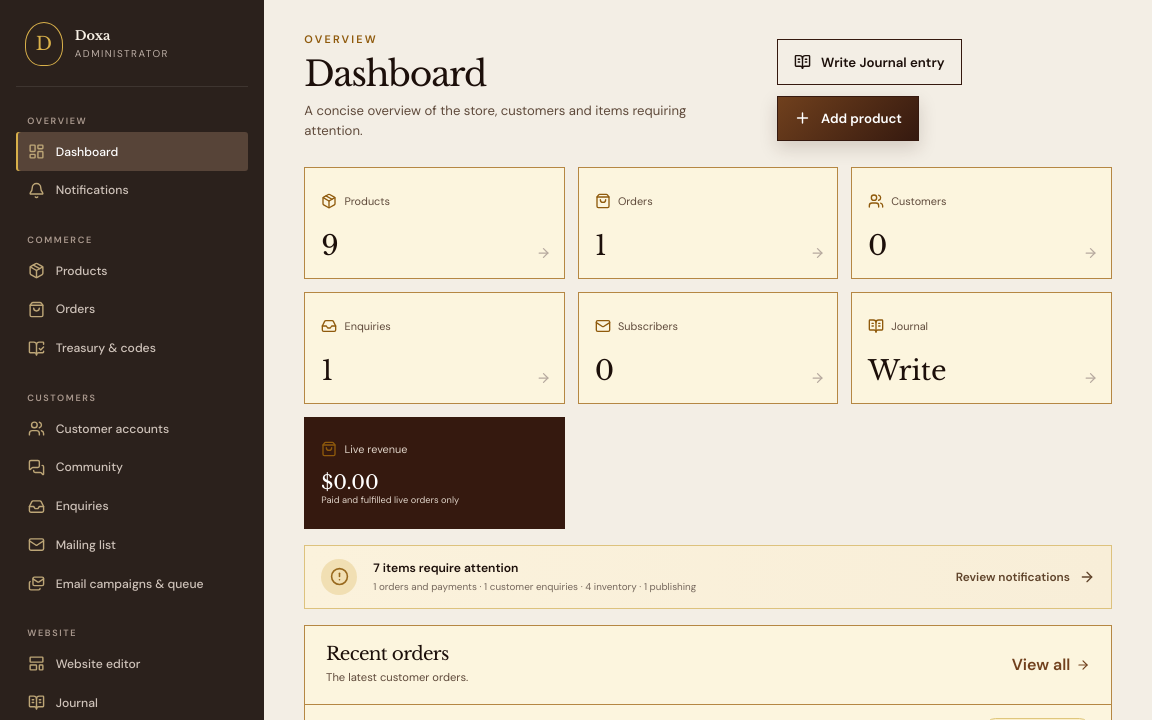
Test: routed administrator workspace › opens the structured notifications view from the dashboard attention banner
Click the link that starts with "item": (339, 577) [304,545,1112,609]
(page scrolled)
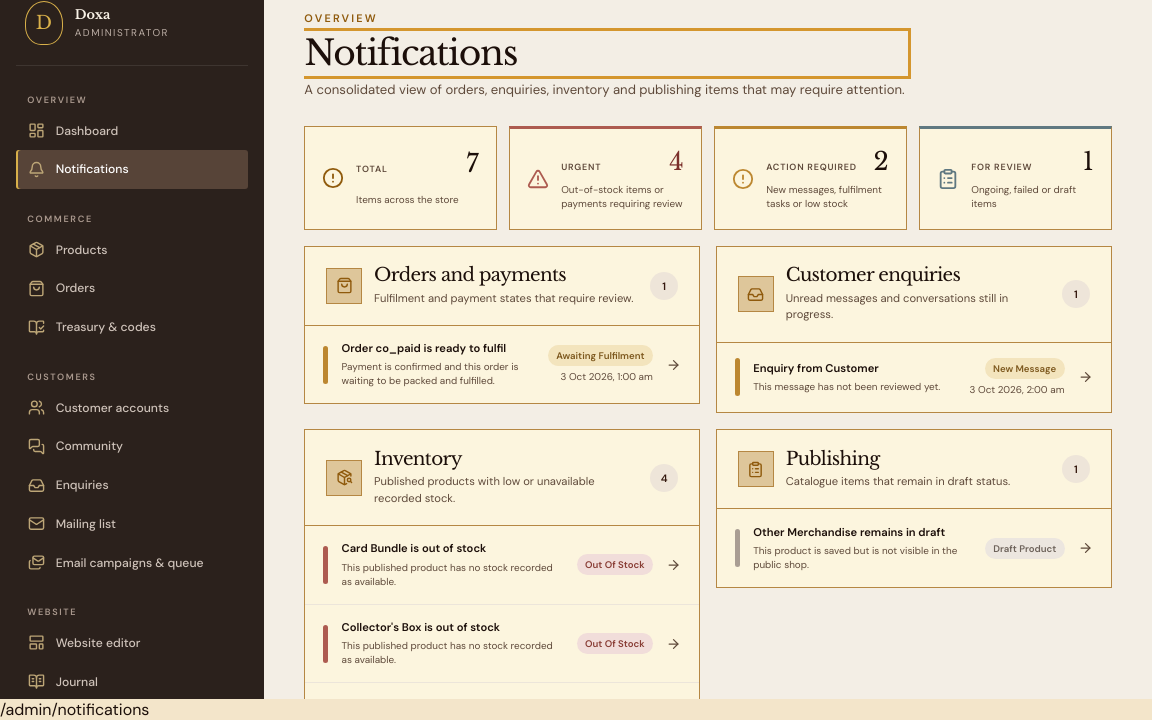
Expected: the heading "Orders and payments" is shown, [374,263,566,286]
Expected: the heading "Notifications" is shown, [304,31,517,74]
Expected: the text with test id "location" reads "/admin/notifications", [0,699,149,719]
